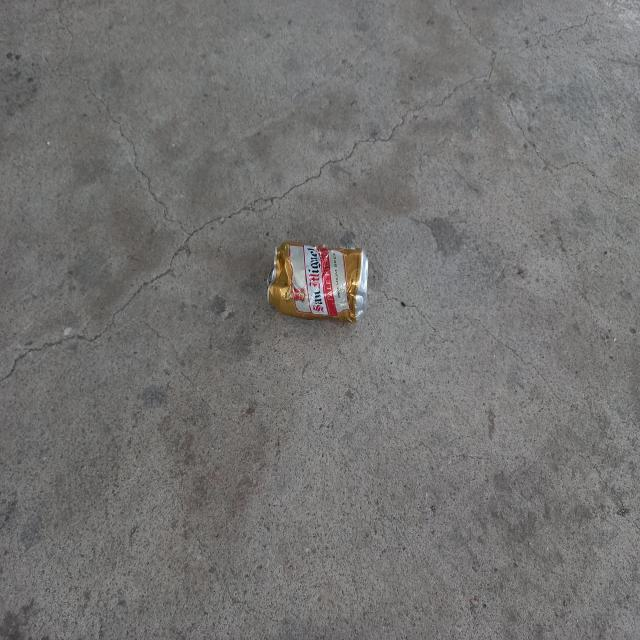can: (267, 240, 369, 322)
